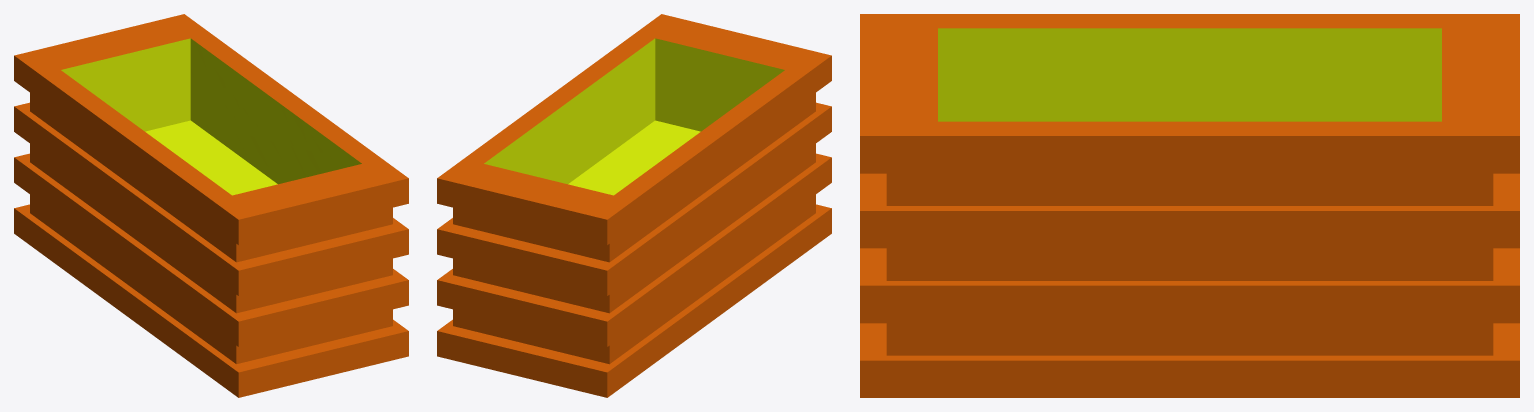
Rendered from chestBody_debug.fbx.
3 views of the same model, side by side, from view 1: azimuth 30°, elevation 25°; view 2: azimuth 150°, elevation 25°; view 3: azimuth 270°, elevation 25° (orthographic). The views are drawn at different scales.
Parts seen in each view (by area): view 1: Cube; view 2: Cube; view 3: Cube.
Part boxes in pixels (<box>): Cube: <box>14,14,408,397</box>; Cube: <box>437,14,831,397</box>; Cube: <box>860,14,1519,397</box>.
Size of the model in its own units: 40 by 40 by 91.34.
